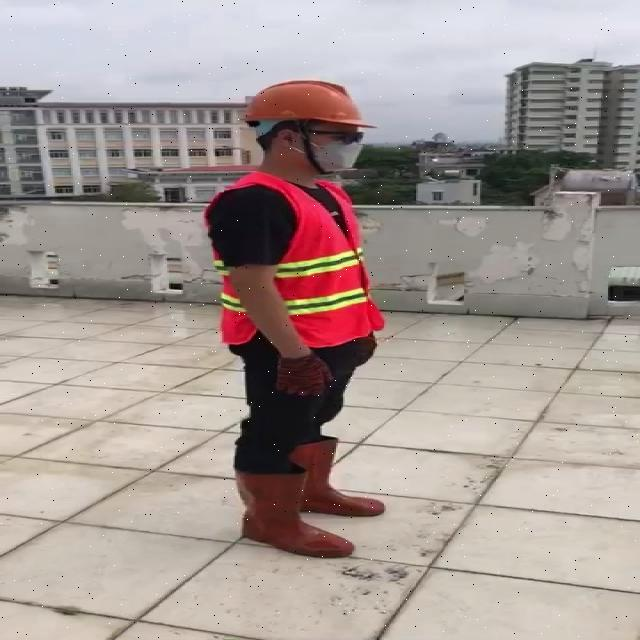Hard_hat: (236, 73, 379, 139)
Person: (198, 74, 401, 565)
Vest: (262, 171, 368, 348)
